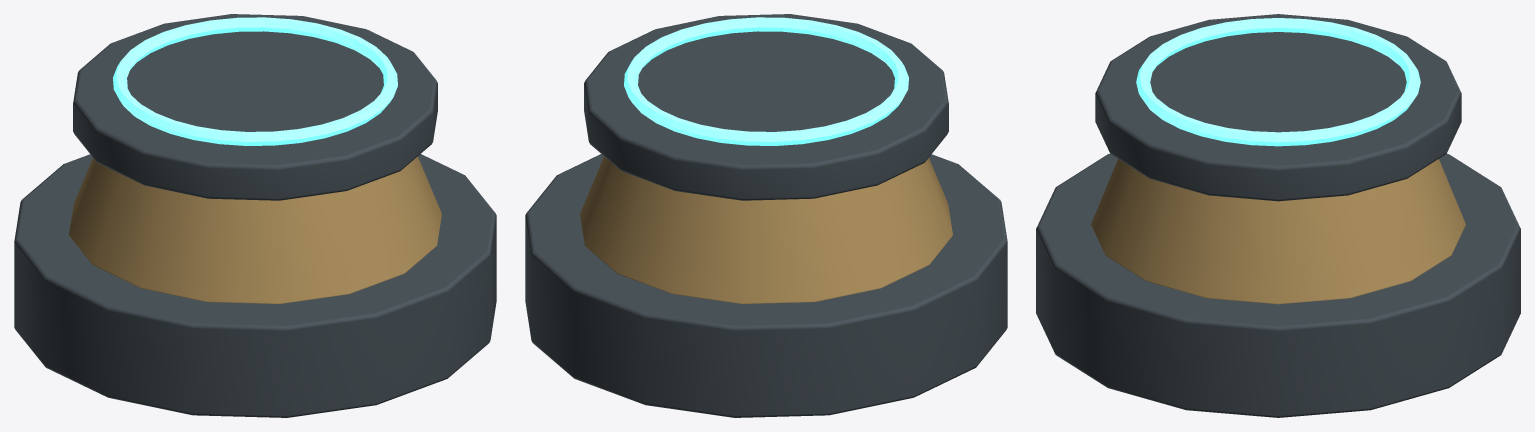
The model's file is pedestal.glb.
The picture shows the model from 3 angles, left to right: view 1: azimuth 30°, elevation 25°; view 2: azimuth 150°, elevation 25°; view 3: azimuth 270°, elevation 25°; orthographic projection.
Visible parts, largest first — view 1: Pedestal base, Pedestal cap, Tapered pedestal, Pedestal illumination; view 2: Pedestal base, Pedestal cap, Tapered pedestal, Pedestal illumination; view 3: Pedestal base, Pedestal cap, Tapered pedestal, Pedestal illumination.
Boxes of the visible parts, x1,y1,x2,y2 form: Pedestal base: [14, 154, 496, 417]; Pedestal cap: [73, 14, 437, 200]; Tapered pedestal: [69, 156, 441, 303]; Pedestal illumination: [113, 17, 397, 145]; Pedestal base: [525, 154, 1007, 417]; Pedestal cap: [584, 14, 948, 200]; Tapered pedestal: [580, 156, 952, 303]; Pedestal illumination: [624, 17, 908, 145]; Pedestal base: [1036, 153, 1520, 417]; Pedestal cap: [1095, 14, 1461, 201]; Tapered pedestal: [1091, 159, 1465, 304]; Pedestal illumination: [1136, 18, 1420, 146].
Size of the model in its own units: 1.72 by 0.9417 by 1.72.
